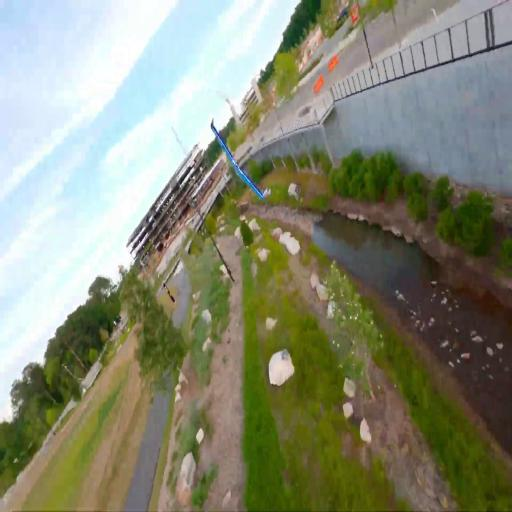uav: (209, 111, 269, 215)
